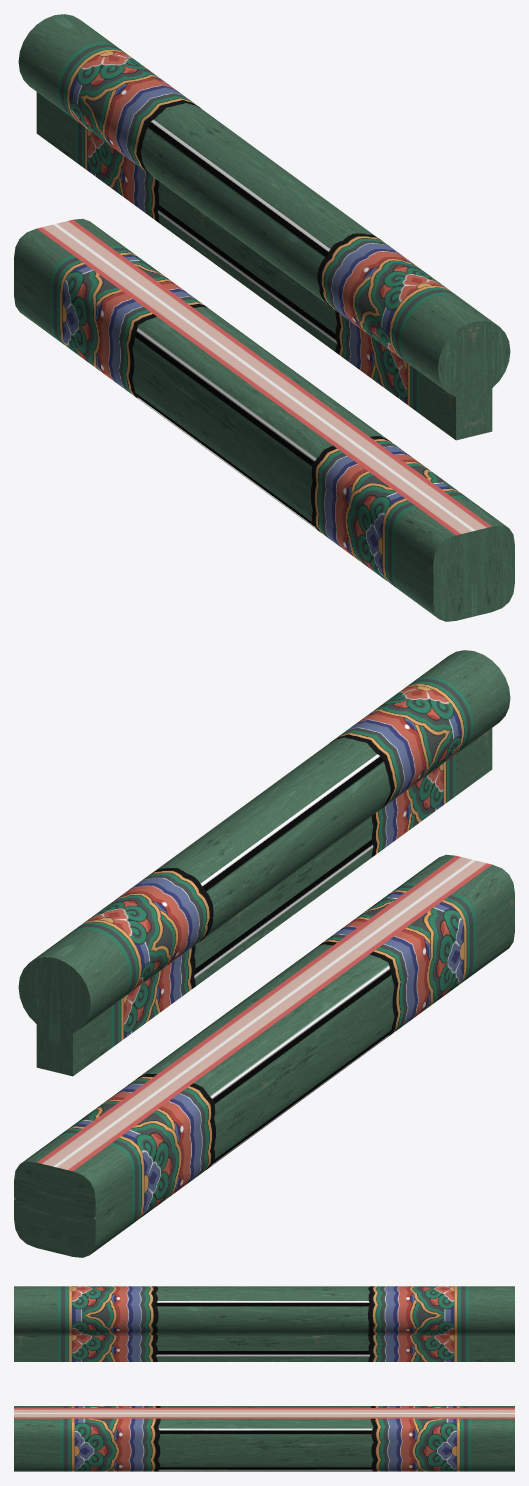
File: SM_CGJ_Purlin02d.fbx
3 renders of one model, top to bottom at view 1: azimuth 30°, elevation 25°; view 2: azimuth 150°, elevation 25°; view 3: azimuth 270°, elevation 25°, orthographic. The views are drawn at different scales.
Parts seen in each view (by area): view 1: SM_CGJ_Purlin02d; view 2: SM_CGJ_Purlin02d; view 3: SM_CGJ_Purlin02d.
Part boxes in pixels (x1,y1,x2,y2): SM_CGJ_Purlin02d: (14, 14, 514, 621); SM_CGJ_Purlin02d: (14, 650, 514, 1257); SM_CGJ_Purlin02d: (14, 1286, 514, 1471).
Size of the model in its own units: 22.5 by 200 by 77.5.
Materials: 1 (1 with a texture image).
